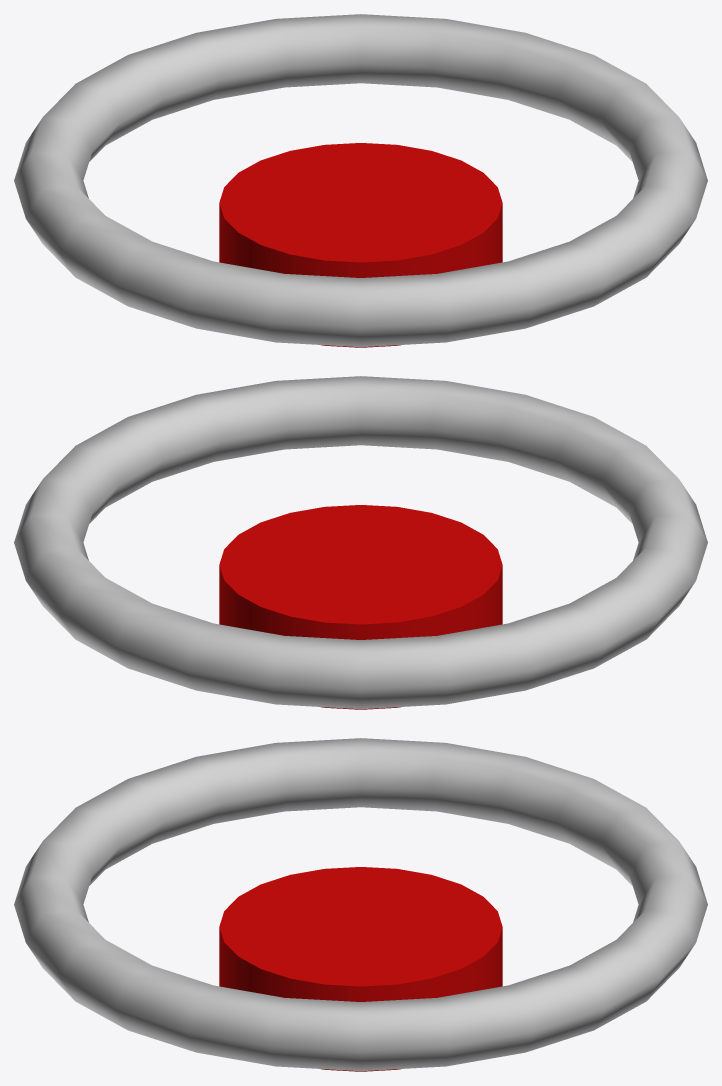
Rendered from AimPoint.fbx.
3 renders of one model, top to bottom at view 1: azimuth 30°, elevation 25°; view 2: azimuth 150°, elevation 25°; view 3: azimuth 270°, elevation 25°, orthographic.
Visible parts, largest first — view 1: AimPoint_Mesh; view 2: AimPoint_Mesh; view 3: AimPoint_Mesh.
Boxes of the visible parts, <box> form: AimPoint_Mesh: <box>14,14,707,347</box>; AimPoint_Mesh: <box>14,376,707,709</box>; AimPoint_Mesh: <box>14,738,707,1071</box>.
Size of the model in its own units: 33.07 by 7.07 by 33.07.
